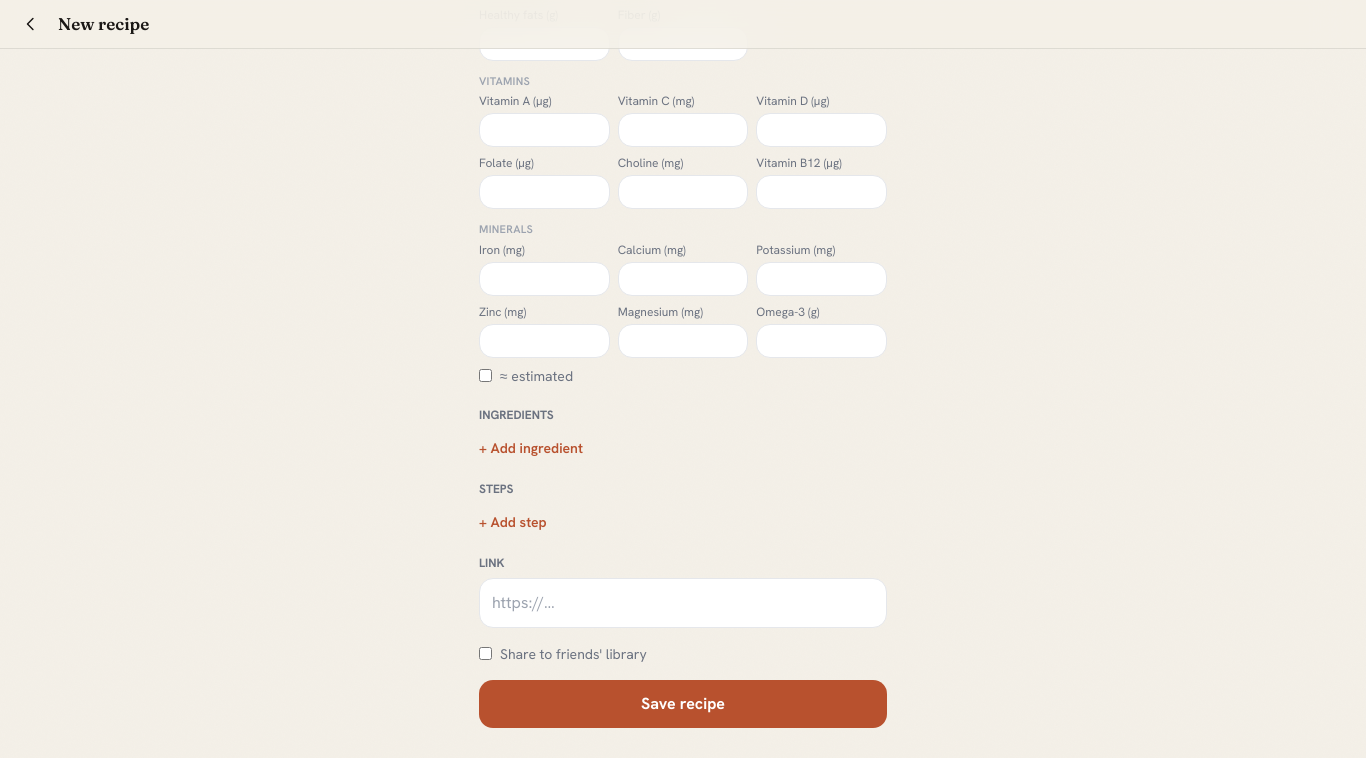
Scenario: RecipeForm › adds an ingredient row
(page scrolled)
Click the button "+ Add ingredient". click: [531, 448]
box: [479,438,583,458]
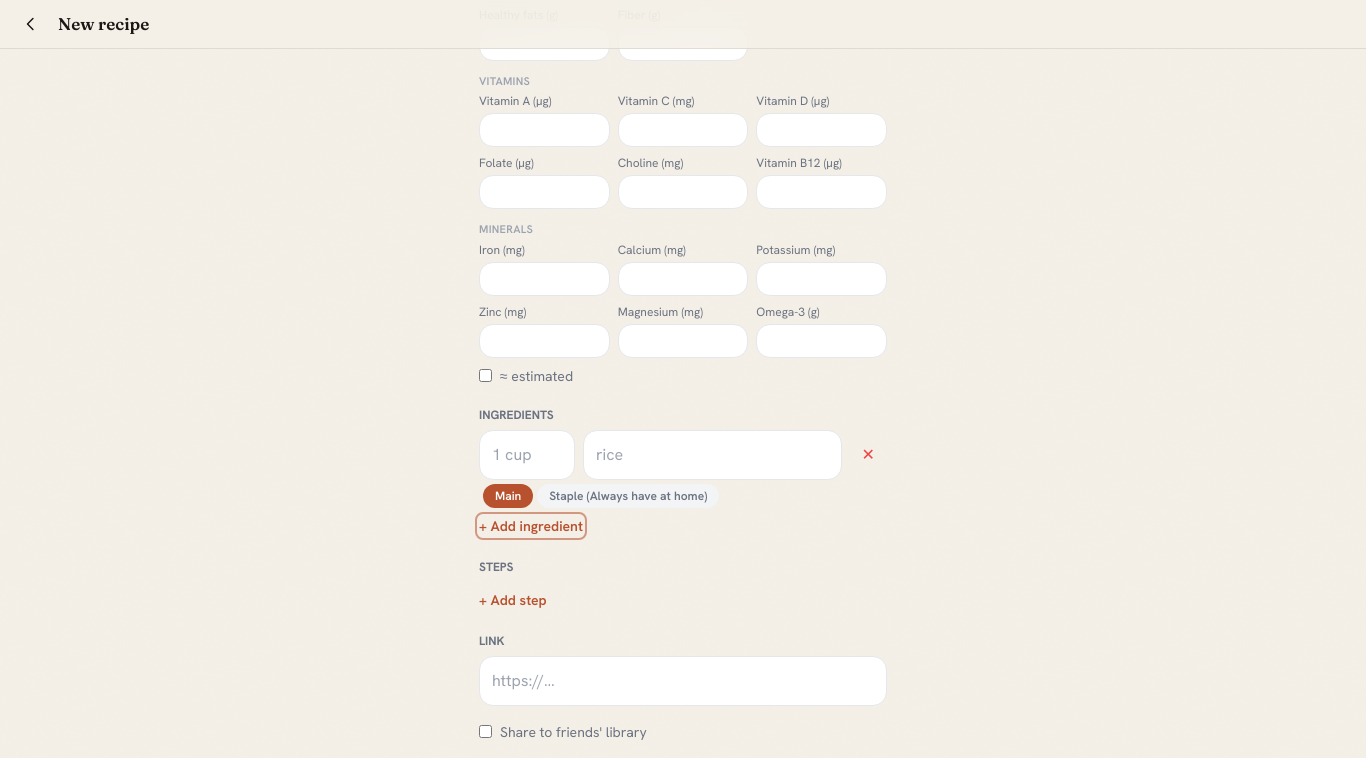
Expected: the field named "Ingredient 1 amount" is shown, [479,430,575,480]
Expected: the field named "Ingredient 1 item" is shown, [583,430,842,480]
